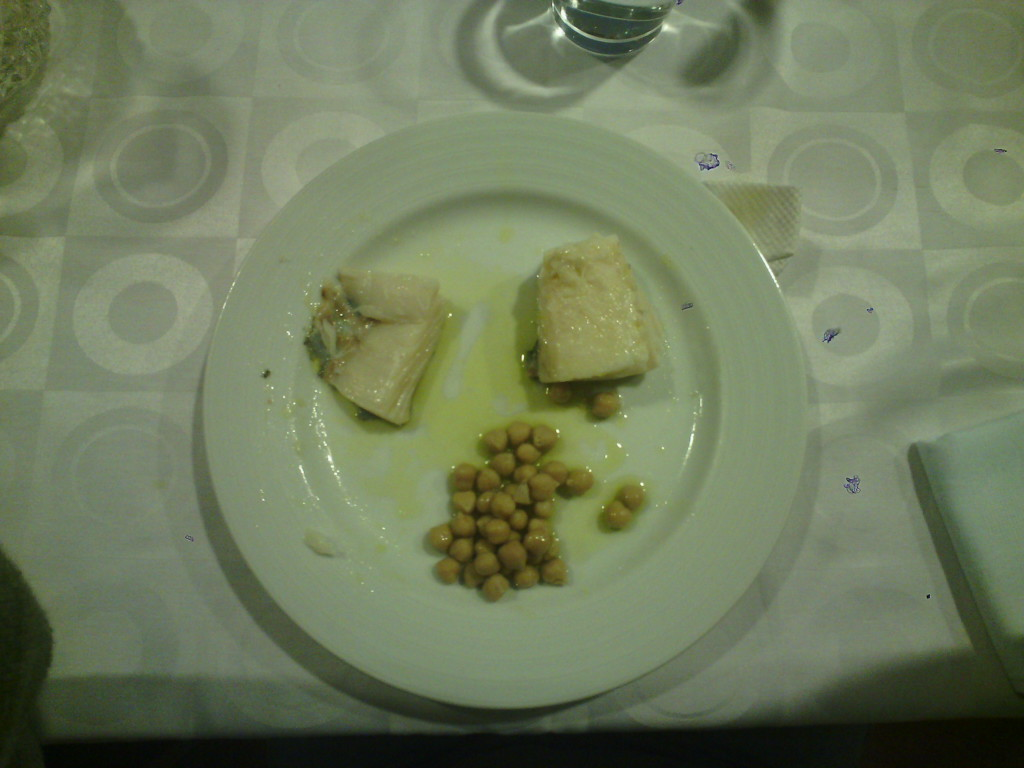41-60: (213, 105, 808, 718)
